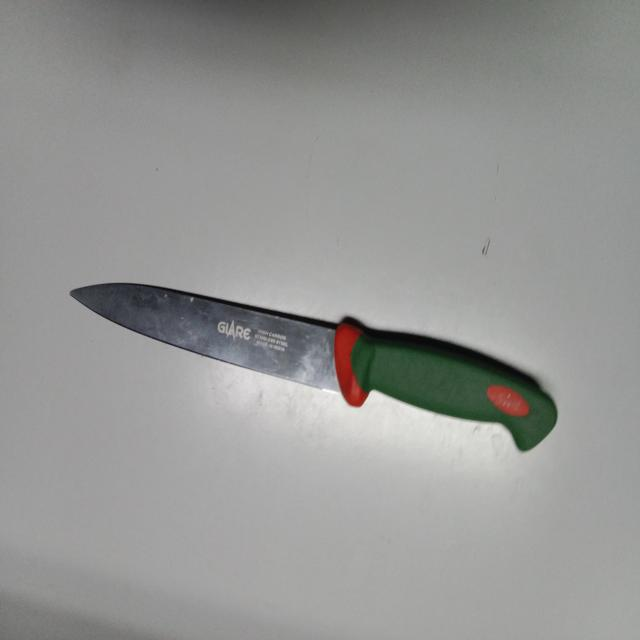Knife: (70, 283, 558, 451)
